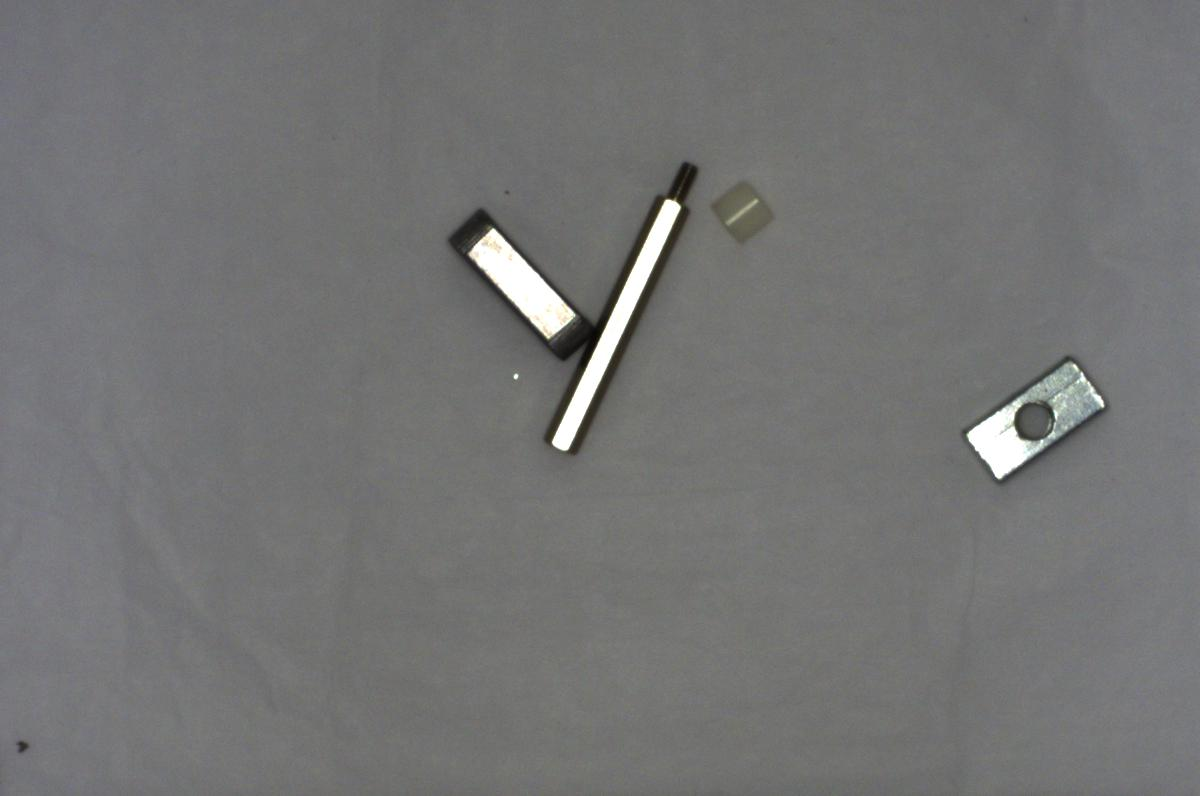Hexagonal steel column: (532, 153, 706, 463)
Keybar: (441, 196, 588, 359)
Plastic cushion pillar: (702, 176, 779, 246)
Rectangular nut: (958, 350, 1111, 488)
